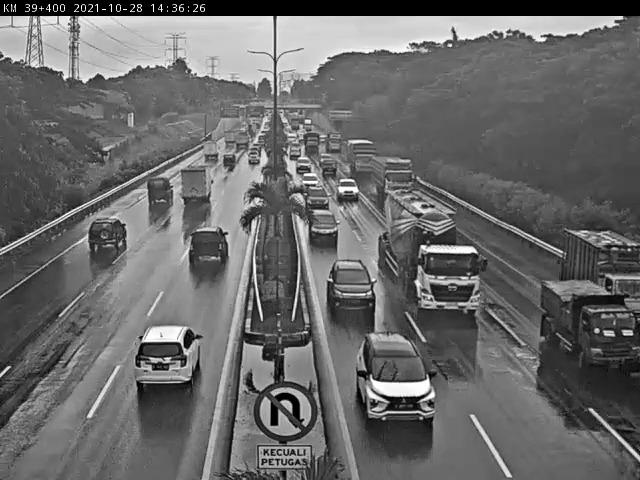big truck: (378, 190, 481, 318), (371, 154, 414, 197), (178, 167, 214, 206)
car: (354, 331, 438, 425), (135, 326, 202, 390), (323, 251, 373, 302), (187, 226, 230, 268), (87, 217, 127, 254), (306, 206, 340, 244), (139, 178, 173, 213), (303, 183, 331, 211), (336, 178, 360, 201), (300, 172, 319, 187), (246, 150, 262, 167), (223, 152, 238, 169)
small truck: (537, 279, 640, 375), (556, 229, 640, 324), (201, 141, 219, 162)
